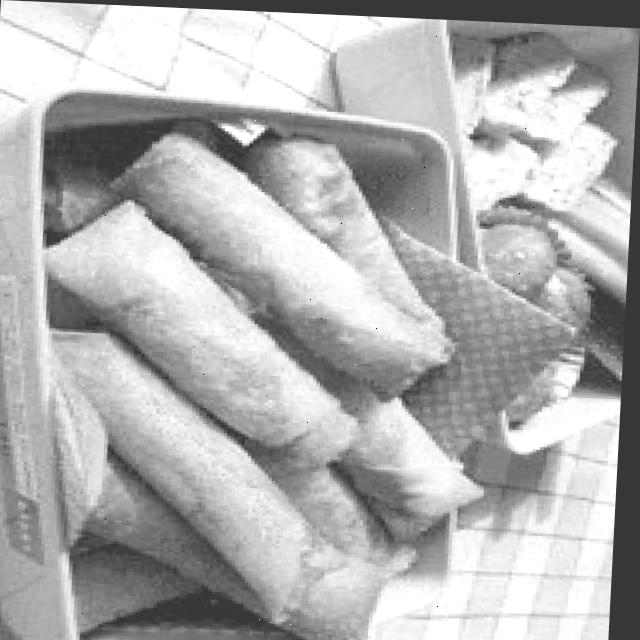鸡蛋料理: (28, 104, 474, 640)
